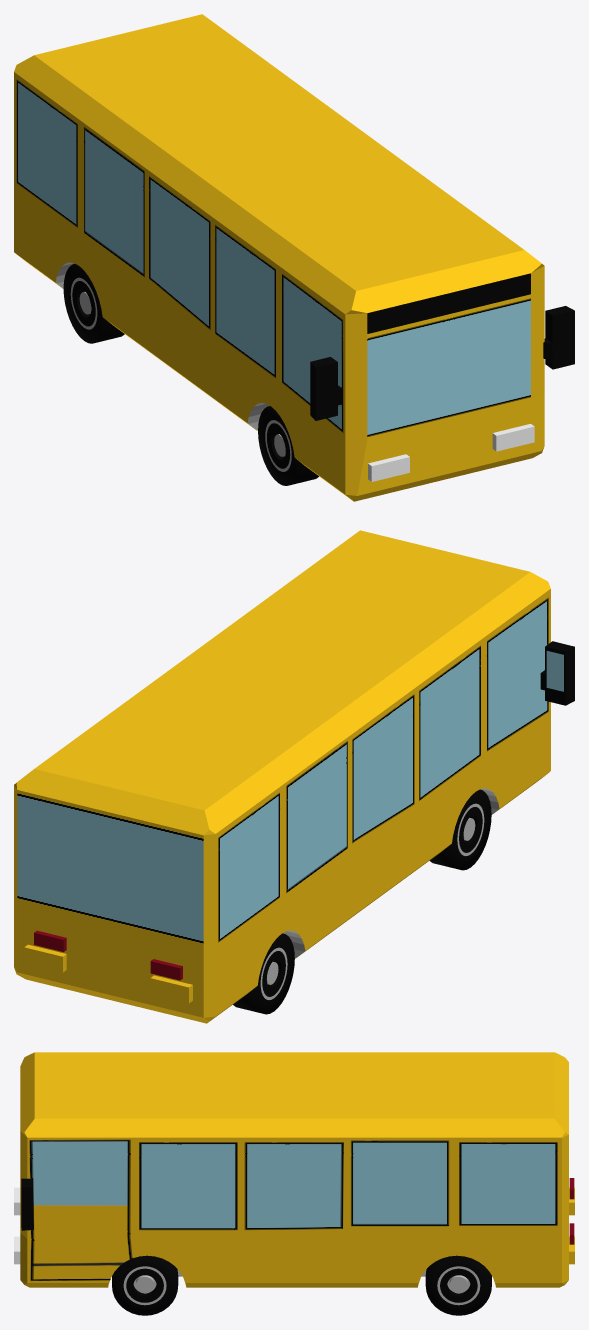
Rendered from bus.fbx.
3 views of the same model, one above another, from view 1: azimuth 30°, elevation 25°; view 2: azimuth 150°, elevation 25°; view 3: azimuth 270°, elevation 25° (orthographic). The views are drawn at different scales.
Parts seen in each view (by area): view 1: Cube; view 2: Cube; view 3: Cube.
Boxes of the visible parts, left/top/right/bottom form: Cube: left=14, top=14, right=574, bottom=501; Cube: left=14, top=530, right=574, bottom=1023; Cube: left=14, top=1052, right=574, bottom=1315.
Bounding box in the file's own units: 603 × 547 × 1436.
1 material, 1 textured.
